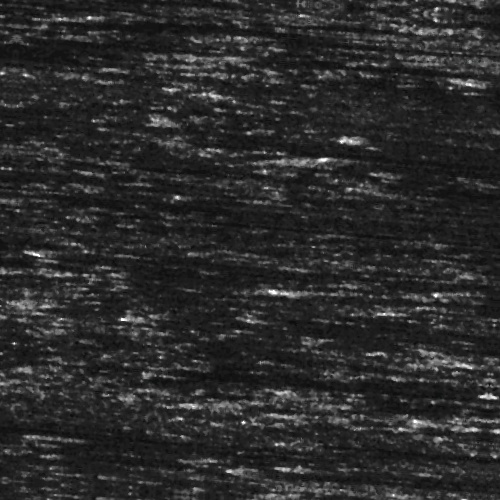object: (246, 281, 361, 290), (279, 148, 372, 159), (8, 26, 91, 35), (273, 458, 346, 467), (224, 464, 297, 471), (197, 32, 260, 39), (23, 263, 76, 270), (0, 203, 30, 214), (39, 447, 102, 452), (0, 52, 31, 59), (202, 54, 243, 59), (332, 128, 385, 131), (56, 6, 97, 9)
shadow: (0, 128, 435, 139), (49, 26, 410, 35), (0, 203, 219, 214), (325, 148, 500, 159), (310, 458, 500, 467), (304, 281, 491, 290), (261, 464, 451, 471), (228, 32, 416, 39), (0, 52, 166, 59), (223, 54, 408, 59), (49, 263, 139, 270), (77, 6, 257, 9), (71, 447, 161, 452), (0, 443, 132, 446), (359, 128, 451, 131), (0, 293, 29, 300)
